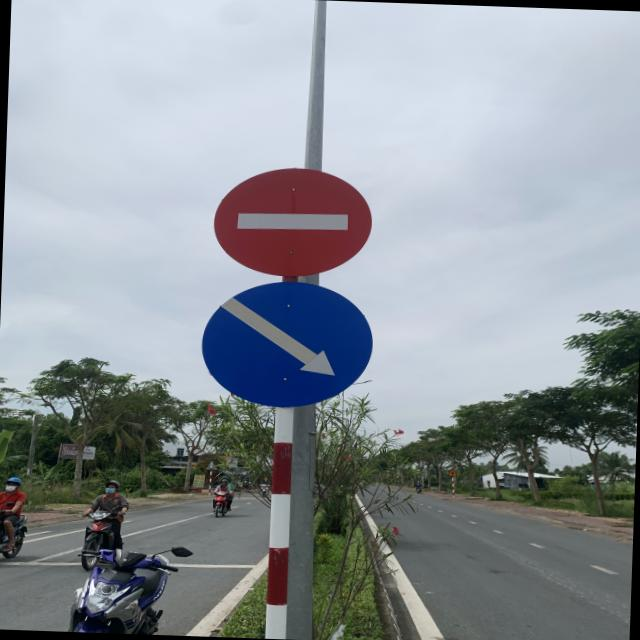Cam_Di_Nguoc_Chieu: (208, 163, 374, 280)
Chi_Huong_Di_Phai: (201, 276, 374, 408)
